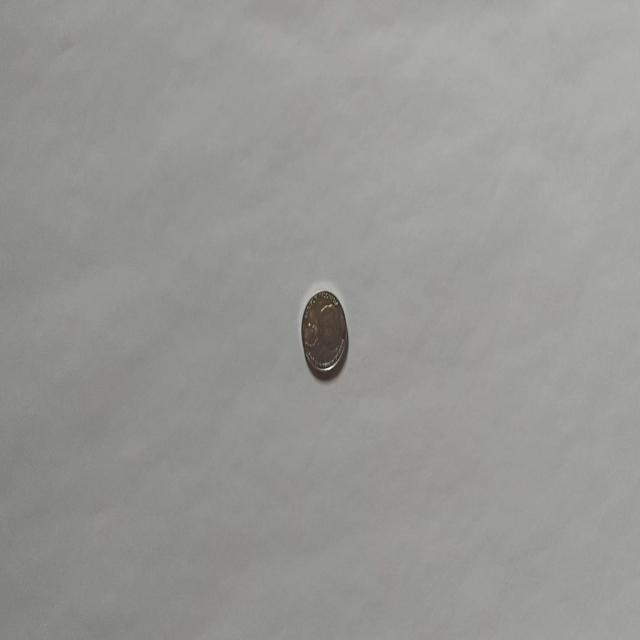seratus rupiah: (300, 288, 348, 375)
